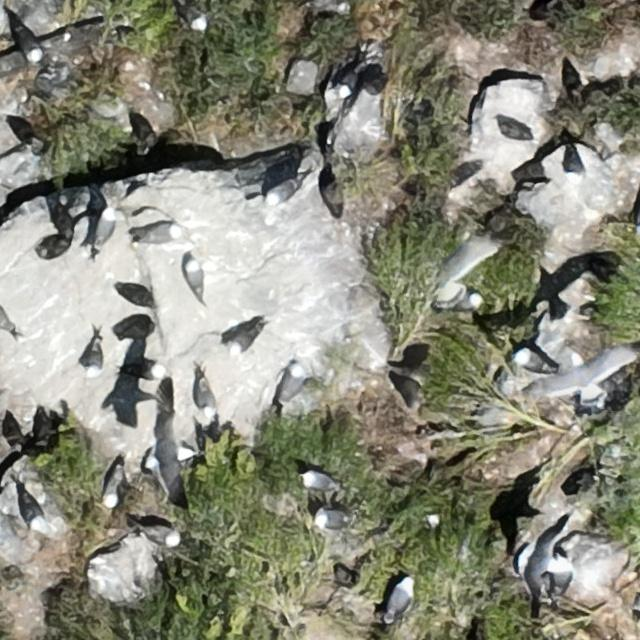F: (515, 513, 576, 613), (533, 344, 633, 404), (146, 414, 192, 502)
umineko: (132, 216, 184, 246), (388, 578, 413, 616), (15, 28, 40, 62), (264, 179, 296, 203), (282, 368, 306, 398), (146, 525, 180, 545), (514, 352, 544, 374), (181, 6, 207, 30), (229, 328, 255, 352), (95, 212, 114, 244), (502, 123, 531, 143), (186, 260, 203, 294), (302, 472, 334, 490), (316, 510, 348, 528), (20, 496, 38, 527), (105, 473, 121, 507), (198, 382, 214, 416), (141, 363, 166, 381), (87, 347, 103, 375), (567, 151, 583, 177), (460, 292, 482, 310)
